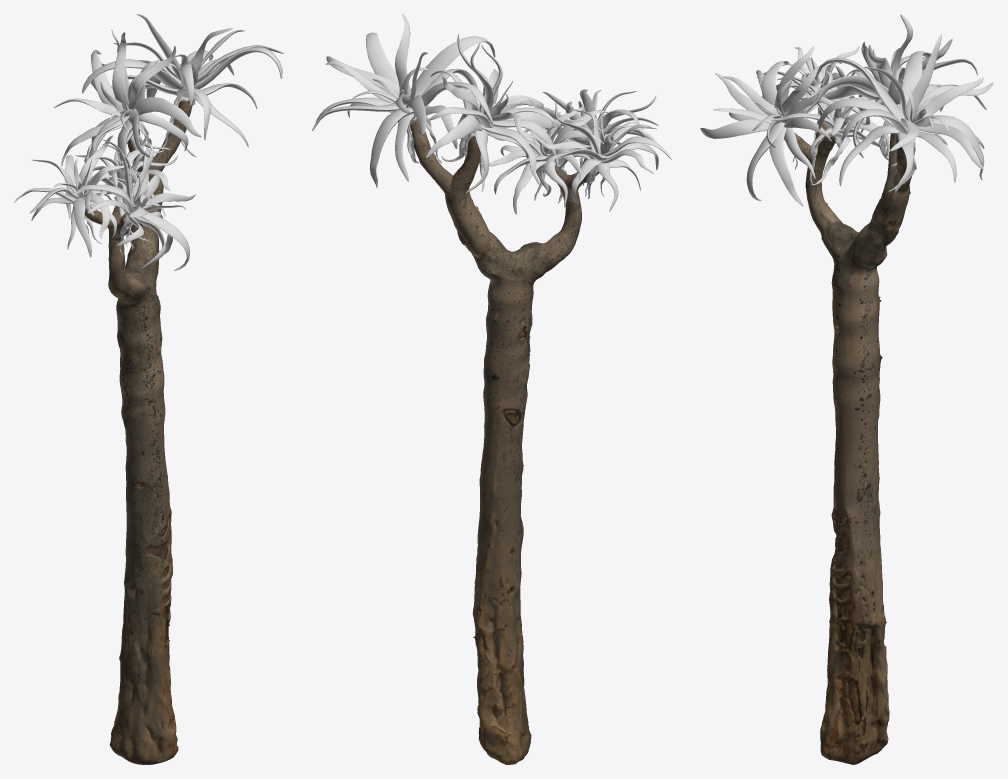
Rendered from quiver_tree_01_1k.fbx.
The picture shows the model from 3 angles, left to right: view 1: azimuth 30°, elevation 25°; view 2: azimuth 150°, elevation 25°; view 3: azimuth 270°, elevation 25°; orthographic projection. The views are drawn at different scales.
Parts seen in each view (by area): view 1: quiver_tree_01_LOD0; view 2: quiver_tree_01_LOD0; view 3: quiver_tree_01_LOD0.
Boxes of the visible parts, x1,y1,x2,y2 form: quiver_tree_01_LOD0: [14, 14, 283, 764]; quiver_tree_01_LOD0: [312, 14, 671, 764]; quiver_tree_01_LOD0: [700, 14, 993, 764].
Bounding box in the file's own units: 118 × 272 × 96.85.
